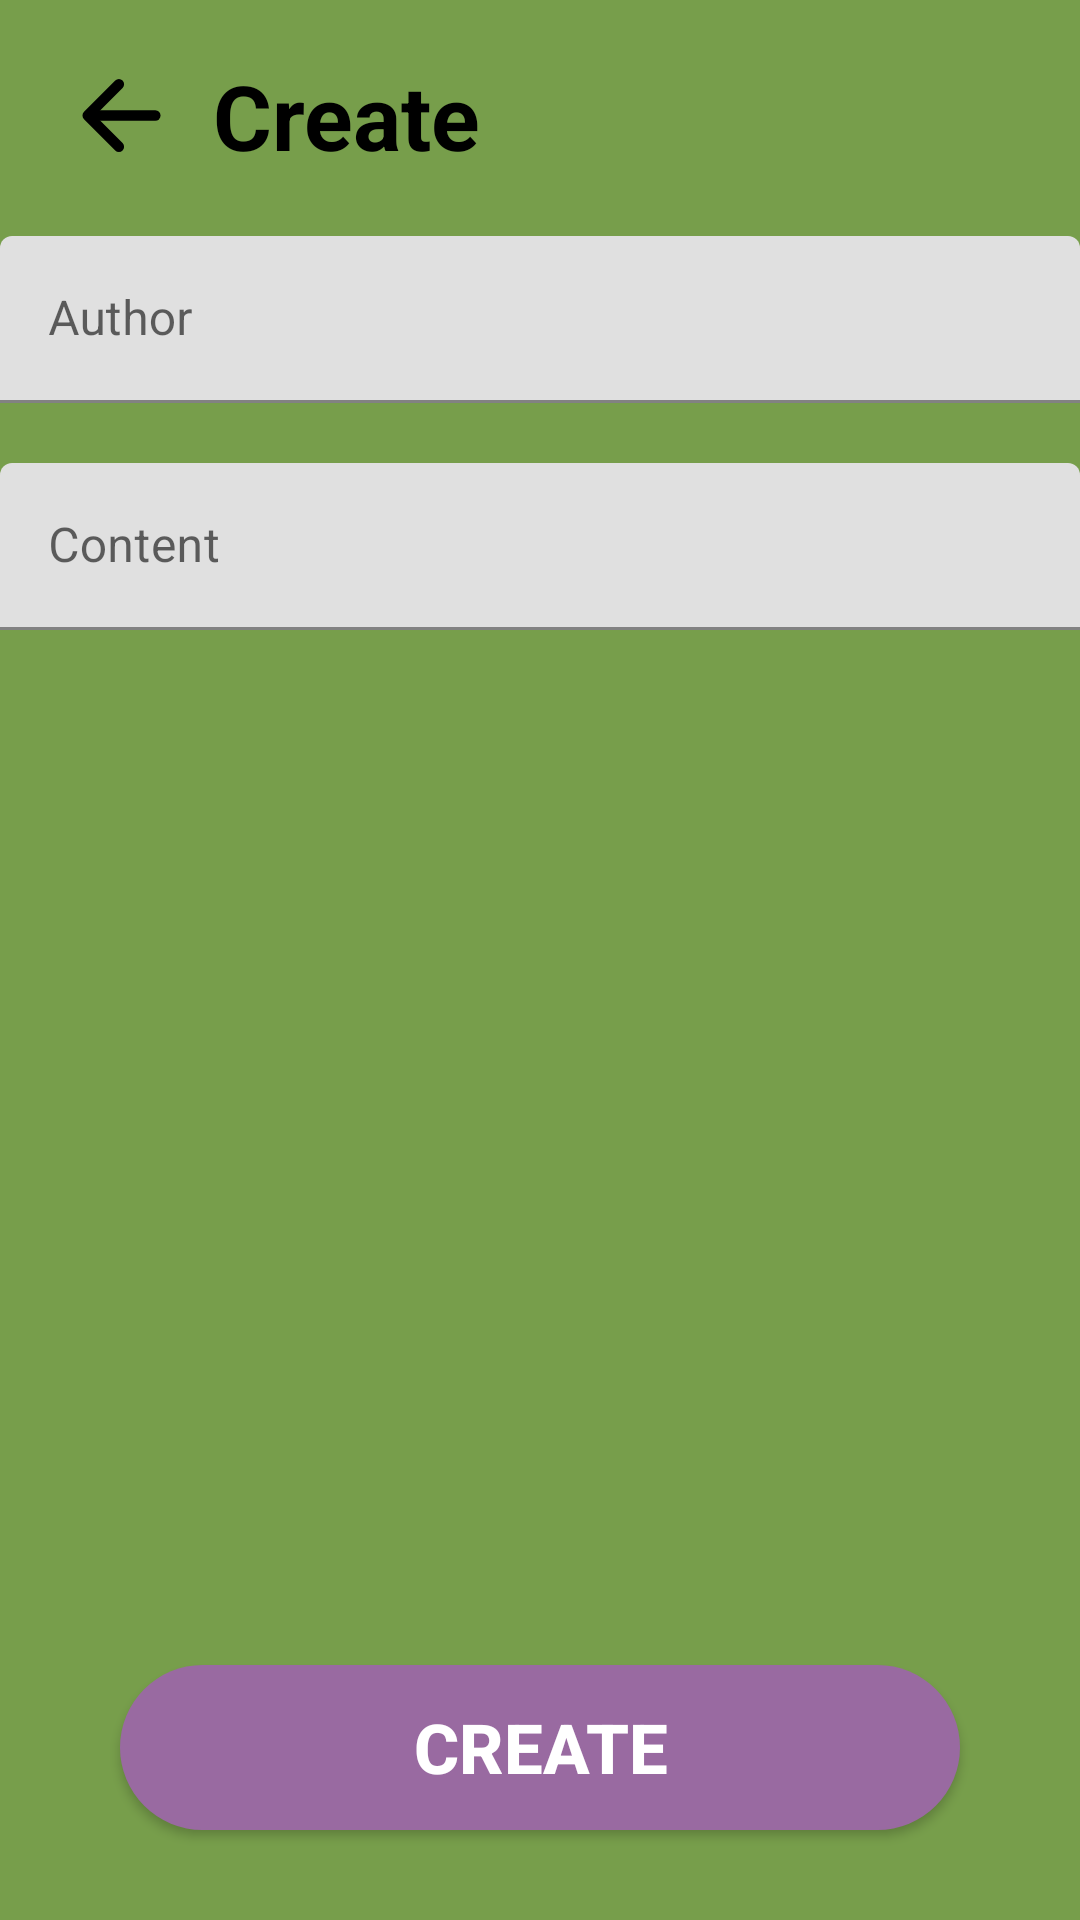

Icons on this 1080*1920 Android screen, each with its box as (x1, y1, x2, y2):
back: (82, 79, 161, 152)
